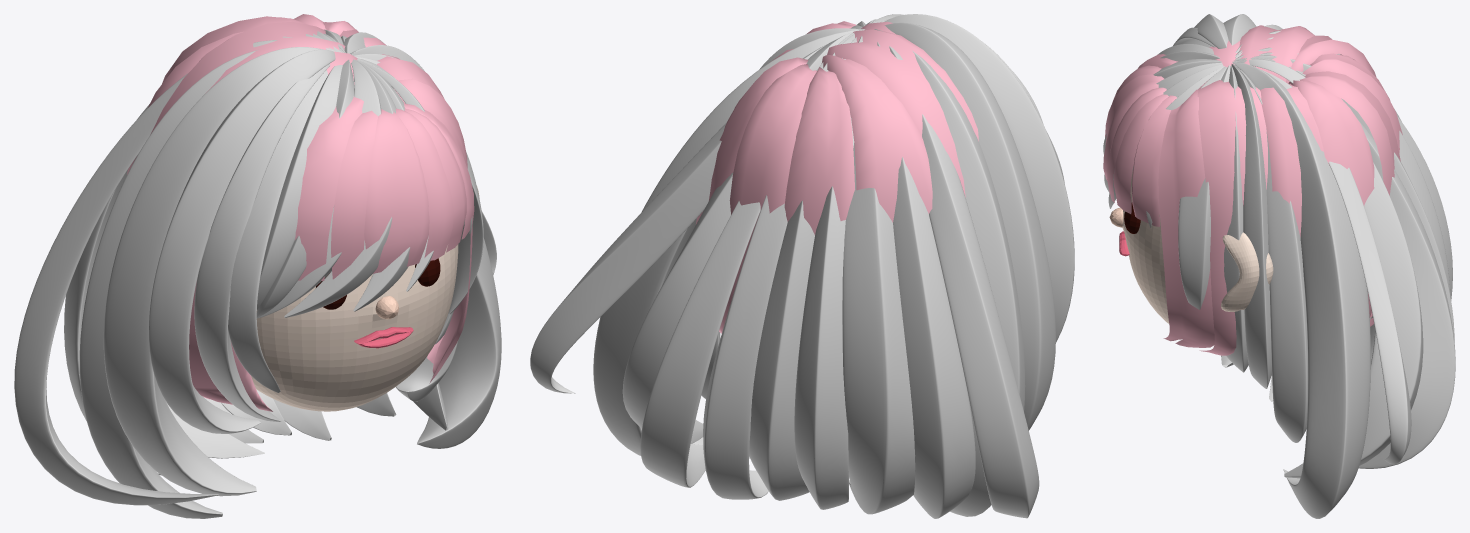
3 views of the same model, side by side, from view 1: azimuth 30°, elevation 25°; view 2: azimuth 150°, elevation 25°; view 3: azimuth 270°, elevation 25° (orthographic). The views are drawn at different scales.
Visible parts, largest first — view 1: dummyHair, NurbsPath.015, Face, NurbsPath.014, NurbsPath.017, NurbsPath.019, NurbsPath.008, NurbsPath.016, NurbsPath.007, NurbsPath.006, NurbsPath.026, NurbsPath.003 (+12 smaller); view 2: dummyHair, NurbsPath.020, NurbsPath.017, NurbsPath.026, NurbsPath.015, NurbsPath.021, NurbsPath.024, NurbsPath.023, NurbsPath.018, NurbsPath.022, NurbsPath.014, NurbsPath.016 (+3 smaller); view 3: dummyHair, NurbsPath.016, NurbsPath.024, NurbsPath.025, NurbsPath.013, NurbsPath.018, NurbsPath.012, Face, NurbsPath.009, NurbsPath.010, NurbsPath.022, NurbsPath.023 (+8 smaller).
Part boxes in pixels (box(x1,y1,x2,y2)): dummyHair: box(127, 14, 474, 411); NurbsPath.015: box(103, 47, 321, 496); Face: box(251, 186, 479, 411); NurbsPath.014: box(149, 49, 335, 433); NurbsPath.017: box(14, 40, 336, 505); NurbsPath.019: box(79, 48, 323, 518); NurbsPath.008: box(194, 63, 330, 421); NurbsPath.016: box(343, 32, 501, 448); NurbsPath.007: box(228, 70, 327, 392); NurbsPath.006: box(257, 65, 342, 309); NurbsPath.026: box(64, 36, 337, 475); NurbsPath.003: box(284, 60, 396, 317); dummyHair: box(696, 21, 978, 333); NurbsPath.020: box(842, 143, 915, 514); NurbsPath.017: box(889, 46, 1039, 518); NurbsPath.026: box(877, 42, 975, 518); NurbsPath.015: box(884, 22, 1055, 430); NurbsPath.021: box(794, 36, 862, 509); NurbsPath.024: box(640, 29, 864, 487); NurbsPath.023: box(703, 34, 854, 499); NurbsPath.018: box(530, 43, 828, 393); NurbsPath.022: box(749, 37, 856, 500); NurbsPath.014: box(884, 14, 1074, 342); NurbsPath.016: box(593, 30, 863, 455); dummyHair: box(1103, 25, 1402, 355); NurbsPath.016: box(1232, 62, 1370, 518); NurbsPath.024: box(1232, 57, 1455, 468); NurbsPath.025: box(1237, 59, 1423, 478); NurbsPath.013: box(1233, 64, 1307, 442); NurbsPath.018: box(1232, 62, 1411, 464); NurbsPath.012: box(1231, 64, 1271, 388); Face: box(1122, 171, 1273, 323); NurbsPath.009: box(1178, 65, 1230, 309); NurbsPath.010: box(1224, 65, 1248, 372); NurbsPath.022: box(1259, 52, 1450, 294); NurbsPath.023: box(1234, 55, 1454, 341).
Bounding box in the file's own units: 284 × 262 × 207.
